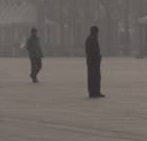person: (84, 24, 108, 99), (25, 25, 43, 84)
